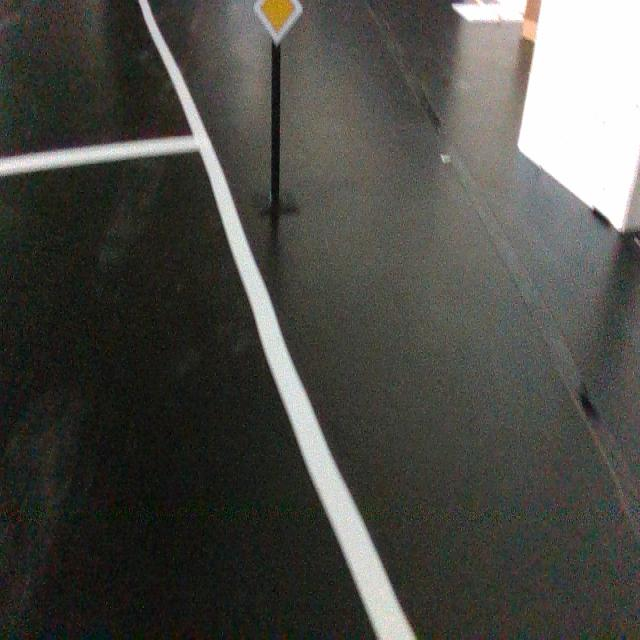priority-sign: (252, 0, 304, 48)
